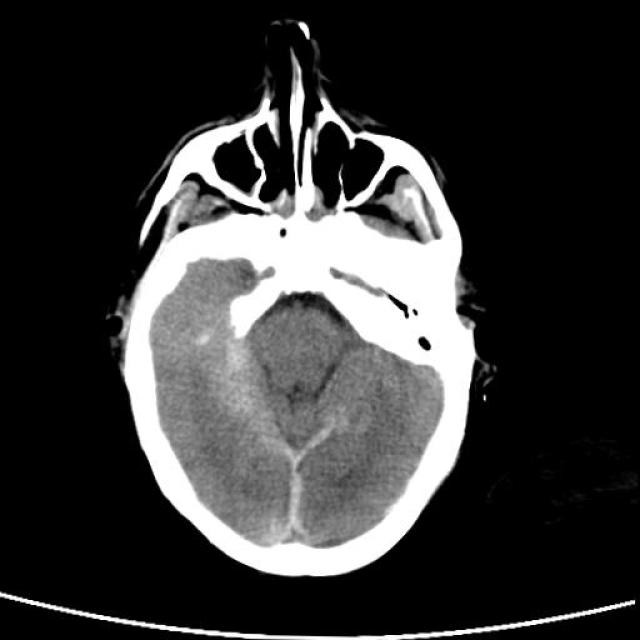Subdural: (256, 417, 340, 565)
